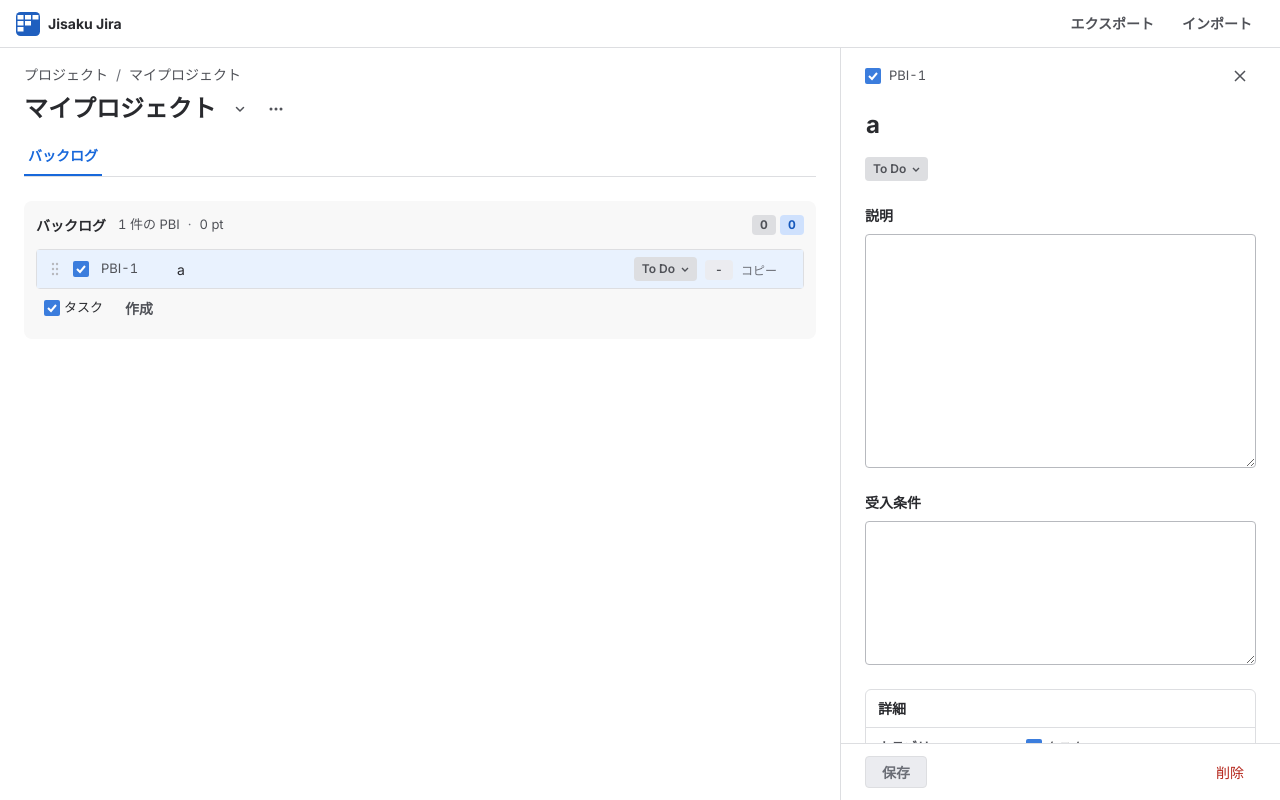
Test case: 詳細パネル › 受入条件だけを変えると保存ボタンが押せるようになる
Check: the button "保存" is disabled, box [865, 756, 927, 788]
Type "x" into the text box labelled "受入条件" at (1060, 593), box [865, 521, 1256, 665]
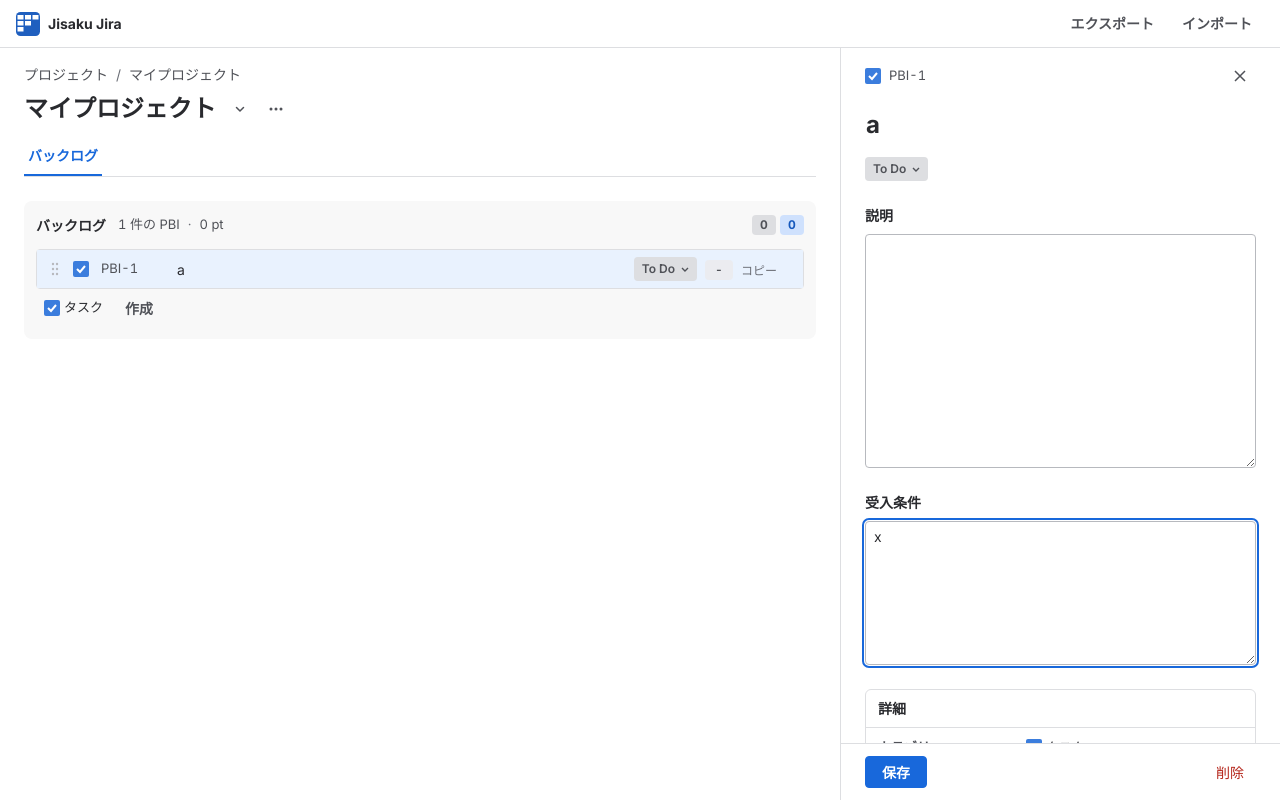
Check: the button "保存" is enabled, box [865, 756, 927, 788]
